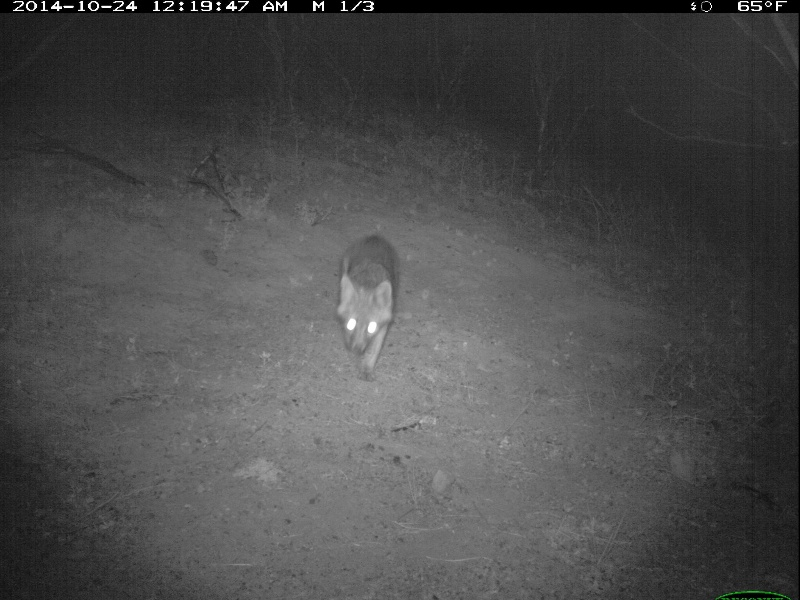fox: (332, 230, 403, 387)
